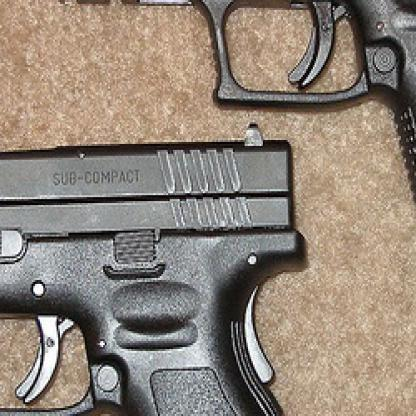gun: (22, 0, 414, 339), (0, 128, 323, 414)
